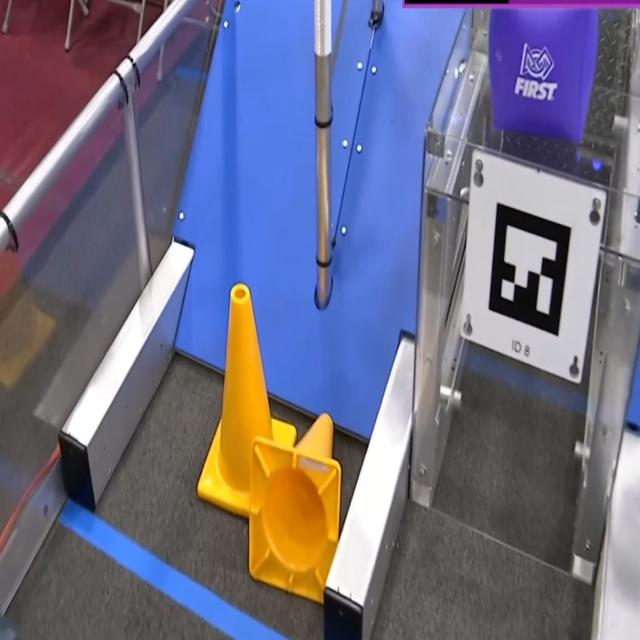frc_cone: (196, 282, 296, 531), (249, 421, 342, 597)
frc_cube: (491, 0, 601, 145)
